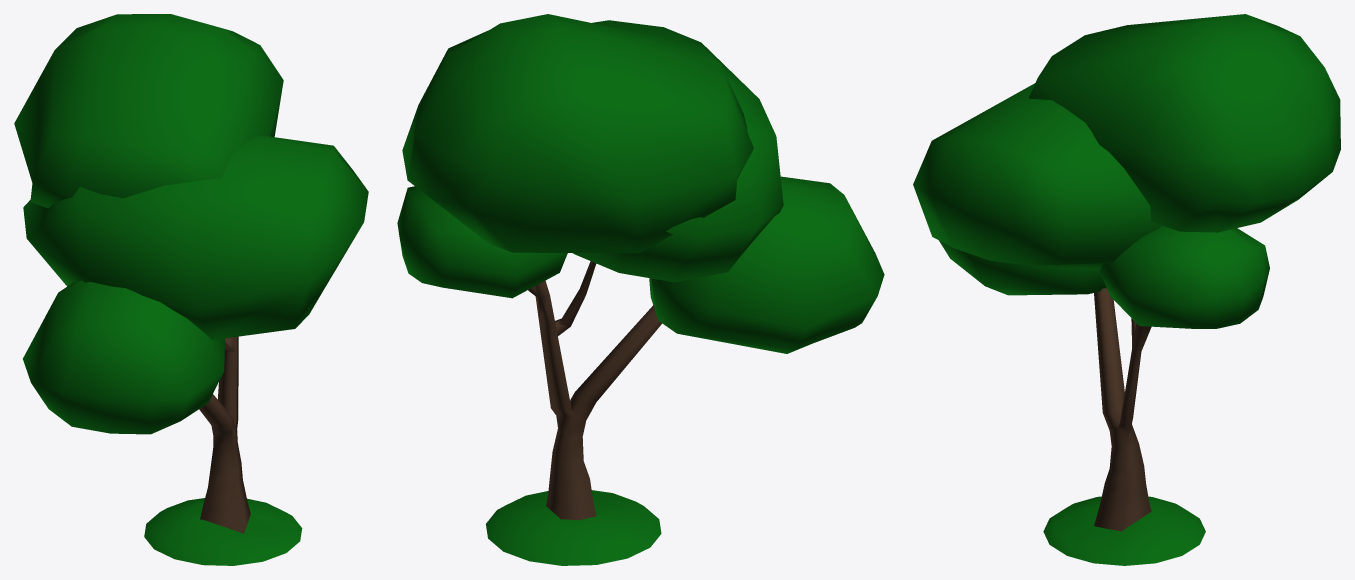
File: tree 3.fbx
3 renders of one model, left to right at view 1: azimuth 30°, elevation 25°; view 2: azimuth 150°, elevation 25°; view 3: azimuth 270°, elevation 25°, orthographic. The views are drawn at different scales.
Visible parts, largest first — view 1: Tree-03.003; view 2: Tree-03.003; view 3: Tree-03.003.
Part boxes in pixels (x1,y1,x2,y2): Tree-03.003: (14,14,368,565); Tree-03.003: (397,14,884,565); Tree-03.003: (913,14,1340,565).
Bounding box in the file's own units: 322 × 422 × 331.
